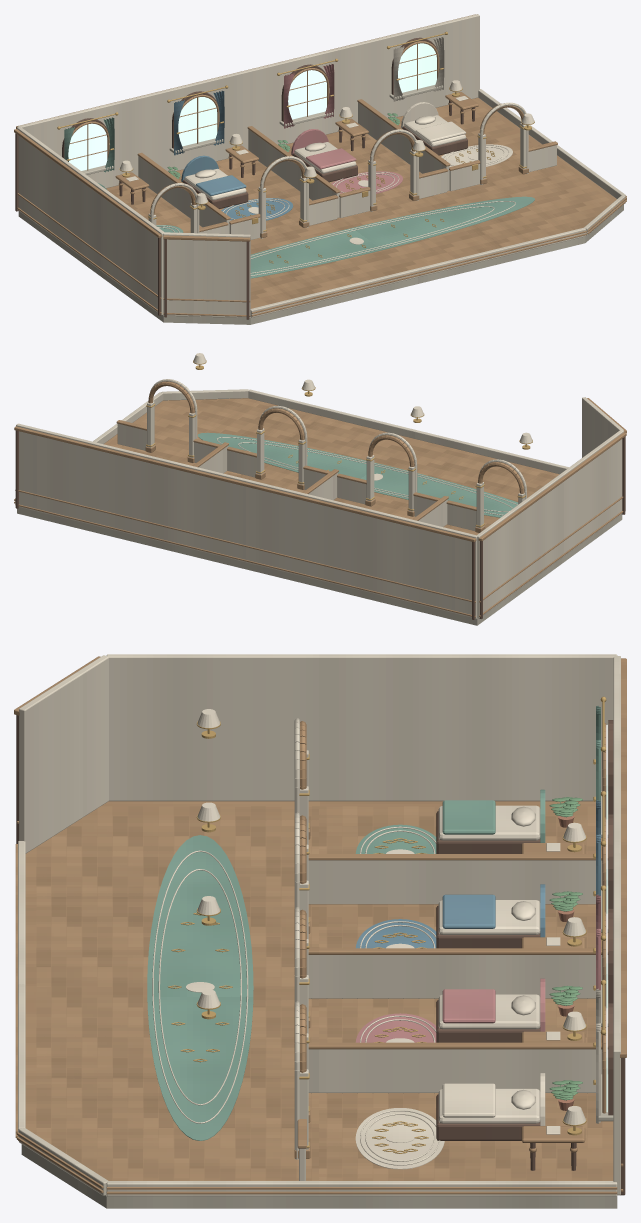
The model's file is hall-dormitory.glb.
3 views of the same model, one above another, from view 1: azimuth 30°, elevation 25°; view 2: azimuth 150°, elevation 25°; view 3: azimuth 270°, elevation 25° (orthographic). The views are drawn at different scales.
Parts seen in each view (by area): view 1: Forest hamlet; view 2: Forest hamlet; view 3: Forest hamlet.
Part boxes in pixels (x1,y1,x2,y2): Forest hamlet: (14, 14, 626, 324); Forest hamlet: (14, 353, 626, 625); Forest hamlet: (14, 654, 626, 1208).
Size of the model in its own units: 22.37 by 4.12 by 14.41.
16 materials, 16 textured.
